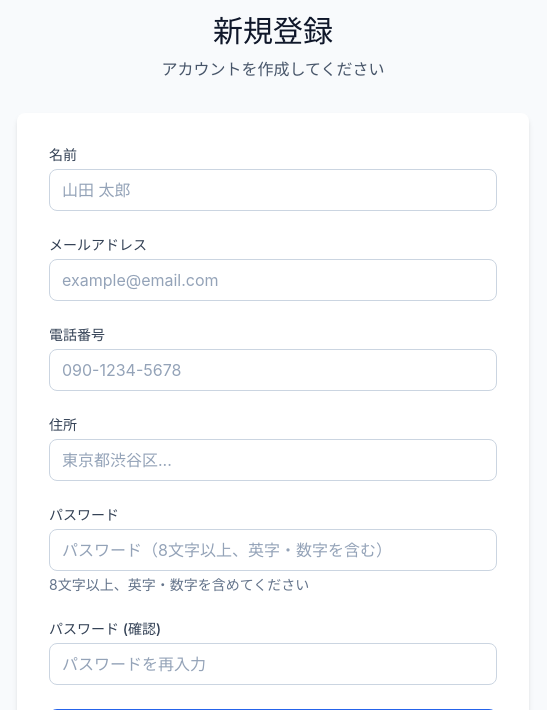
Test case: RegisterPage › 無効なメールアドレス形式の場合エラーが表示される
Type "invalid-email" into the field labelled "メールアドレス" at coordinates (273, 280), box [49,259,497,301]
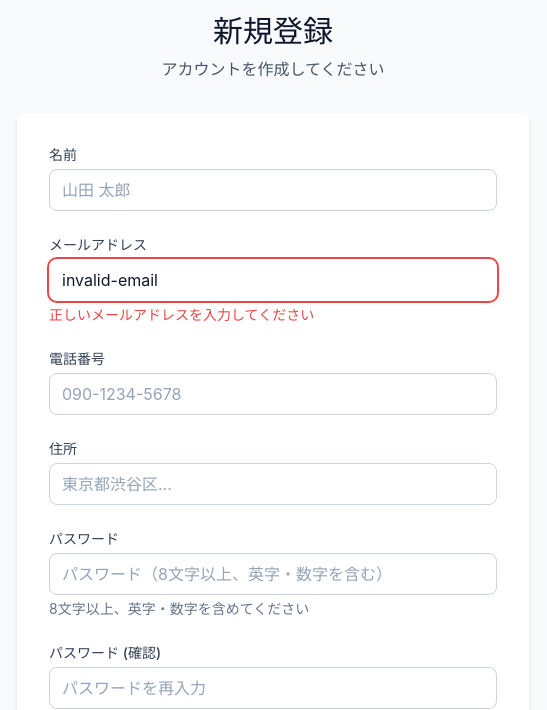
Expected: the text "正しいメールアドレスを入力してください" is shown, [49,306,314,323]
